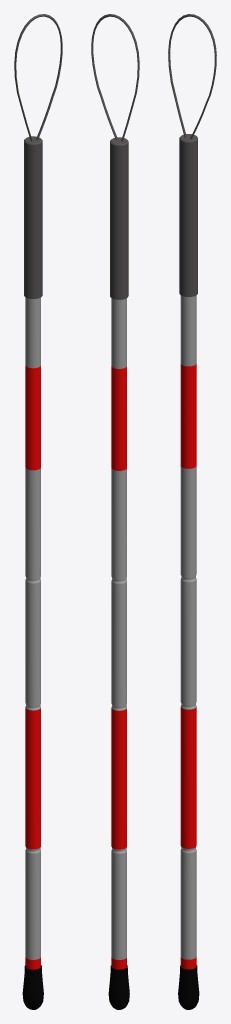
The model's file is Cane.fbx.
3 views of the same model, side by side, from view 1: azimuth 30°, elevation 25°; view 2: azimuth 150°, elevation 25°; view 3: azimuth 330°, elevation 25° (orthographic).
Parts seen in each view (by area): view 1: pCylinder1, pCylinder2, pCube1, defaultBrush1Main; view 2: pCylinder1, pCylinder2, pCube1, defaultBrush1Main; view 3: pCylinder1, pCylinder2, pCube1, defaultBrush1Main.
Boxes of the visible parts, <box> form: pCylinder1: <box>25,297,40,969</box>; pCylinder2: <box>24,136,42,298</box>; pCube1: <box>22,965,43,1009</box>; defaultBrush1Main: <box>14,14,62,141</box>; pCylinder1: <box>111,298,126,969</box>; pCylinder2: <box>110,137,128,299</box>; pCube1: <box>108,965,129,1009</box>; defaultBrush1Main: <box>91,14,139,141</box>; pCylinder1: <box>180,295,196,969</box>; pCylinder2: <box>179,134,197,296</box>; pCube1: <box>178,965,199,1009</box>; defaultBrush1Main: <box>168,14,216,139</box>.
Bounding box in the file's own units: 0.00588 × 0.1164 × 0.00226.
